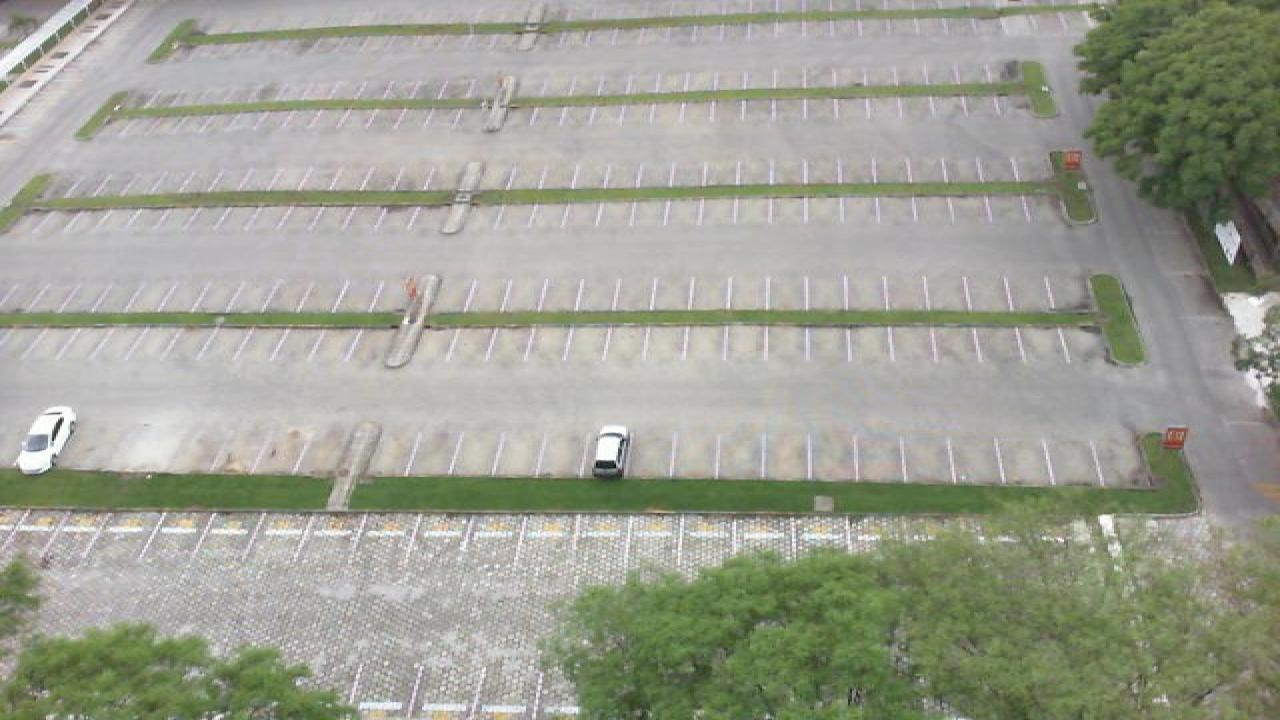Car: (14, 405, 76, 475), (588, 424, 630, 478)
